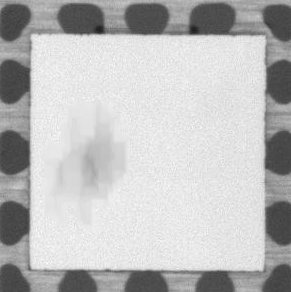DIE_INK: (48, 105, 126, 210)
